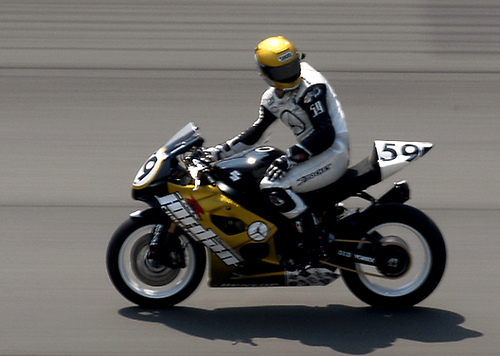helmet: (255, 35, 304, 85)
